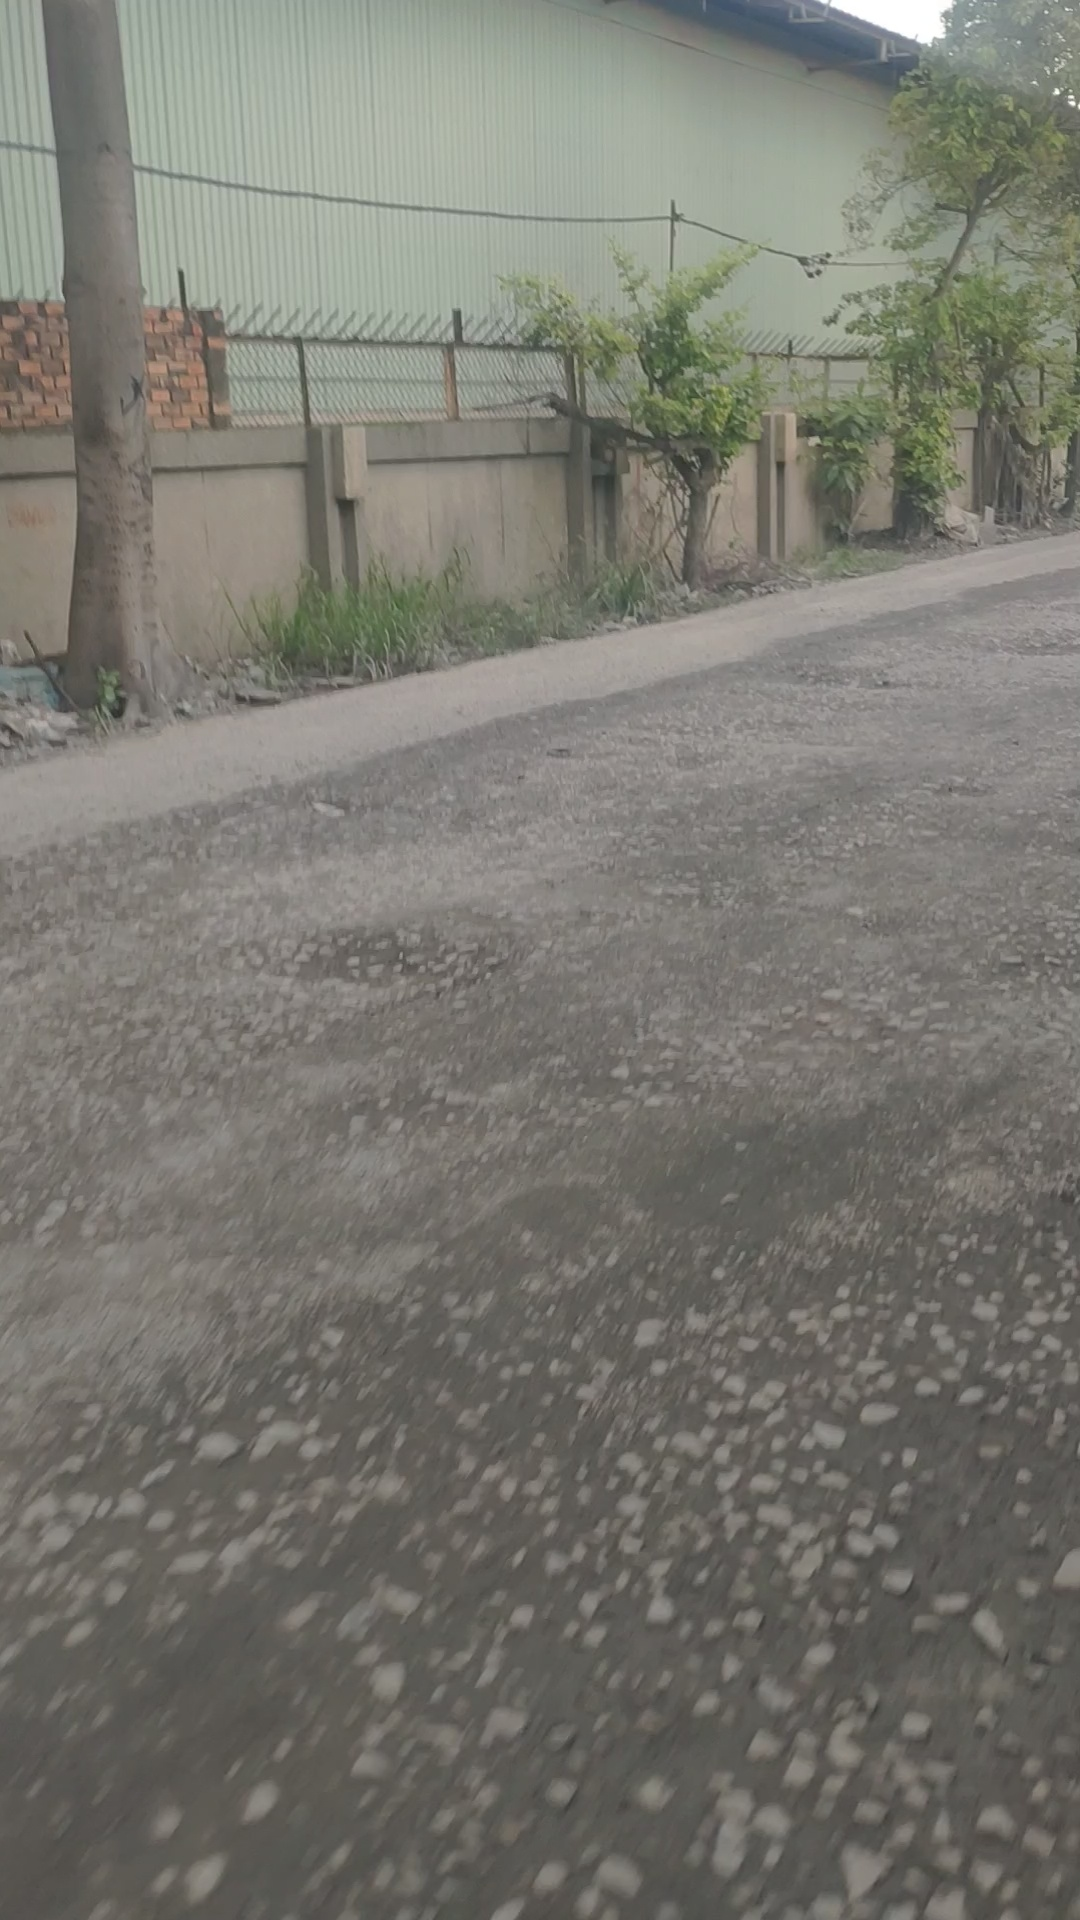hole: (219, 891, 551, 1021), (957, 613, 1080, 669), (765, 659, 932, 696)
